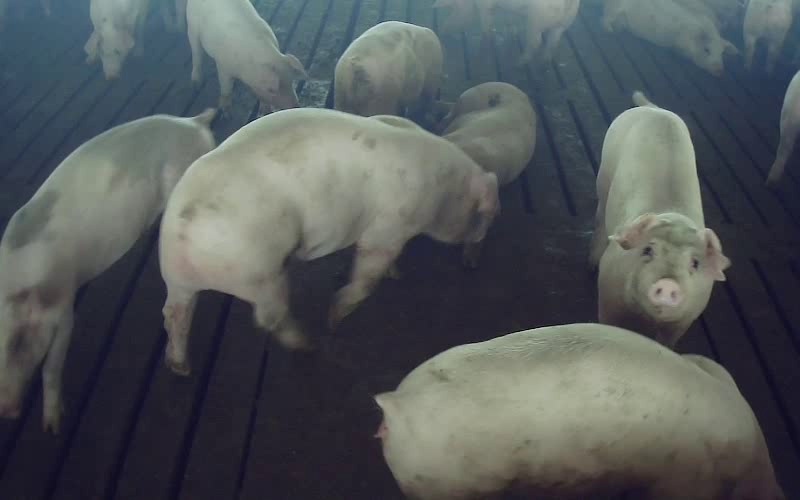pig: (375, 327, 781, 497), (0, 109, 213, 429), (186, 0, 306, 114), (432, 82, 535, 184), (334, 21, 442, 115), (604, 0, 736, 75), (434, 0, 578, 62)
